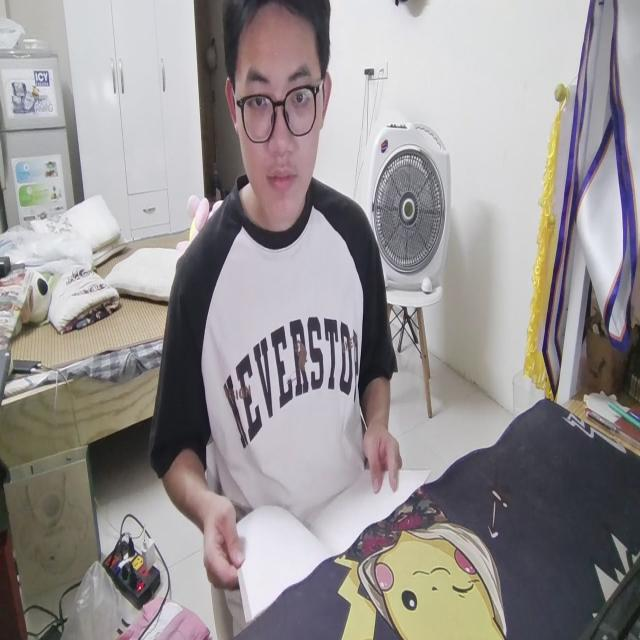book: (229, 457, 430, 598)
student: (151, 3, 401, 604)
